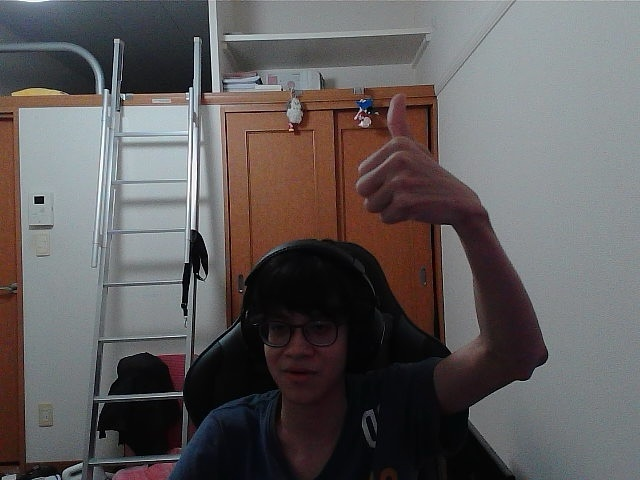thumb_up: (364, 116, 456, 215)
